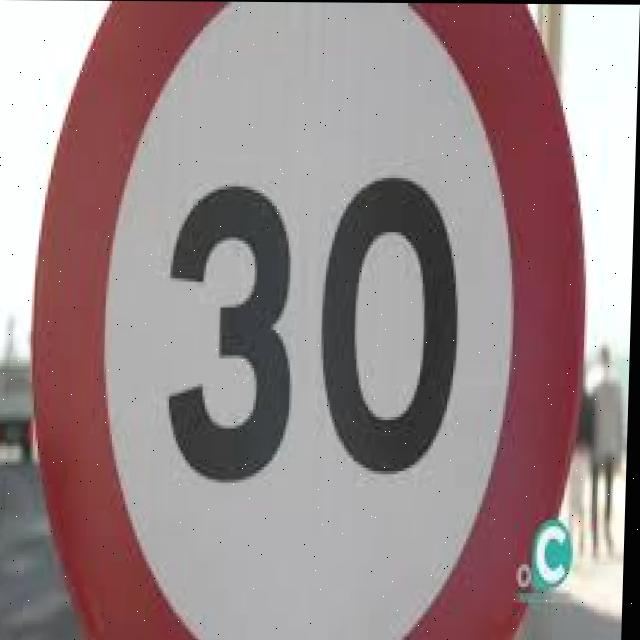Speed limit 30: (22, 1, 598, 640)
